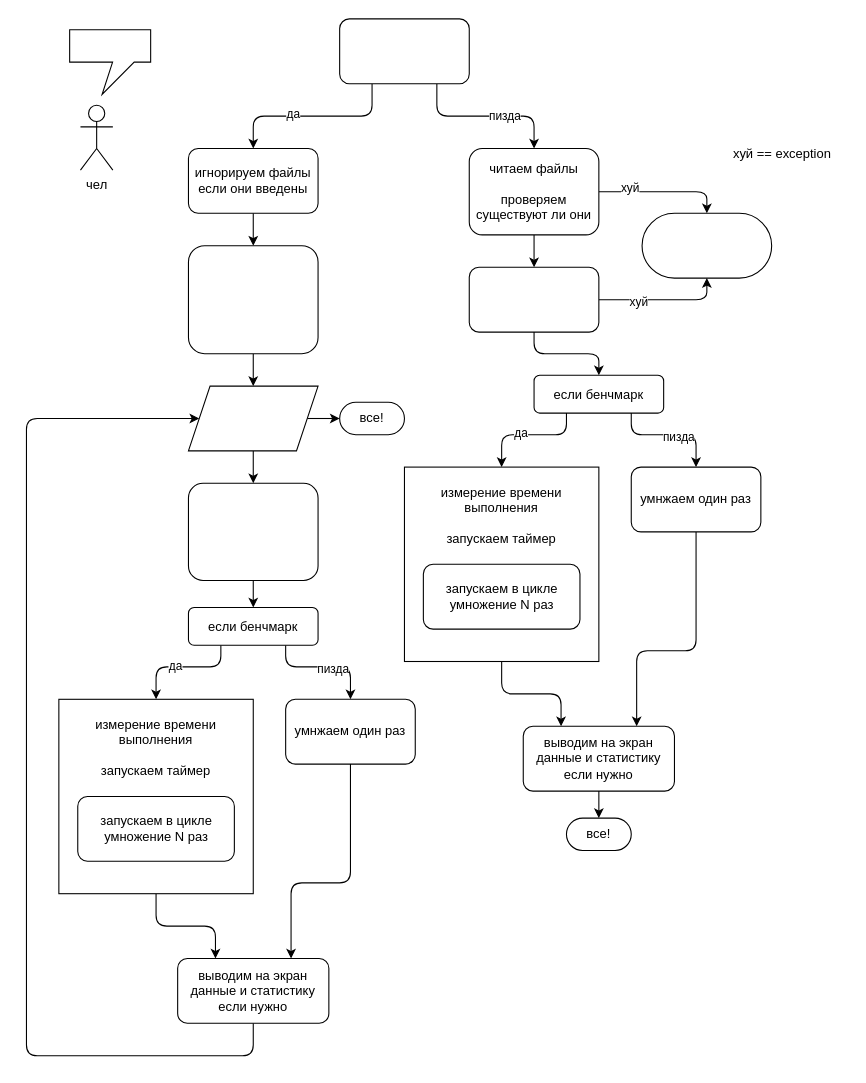
Some shapes in this 866 by 1083 pixel diagram are drawn without their labels. Each missing label, with the centre of its shape:
"абоба" goes at point 110,61.
"бросаем ошибку и выходим" goes at point 706,245.
"вводим первое число вводим второе число" goes at point 252,531.
"есть флаг interactive" goes at point 404,51.
"парсим числа из файлов" goes at point 533,299.
"пока не ввели end / exit / ^C" goes at point 252,418.
"спрашиваем проводить ли бенчмарк или берем из параметров cli" goes at point 252,299.
